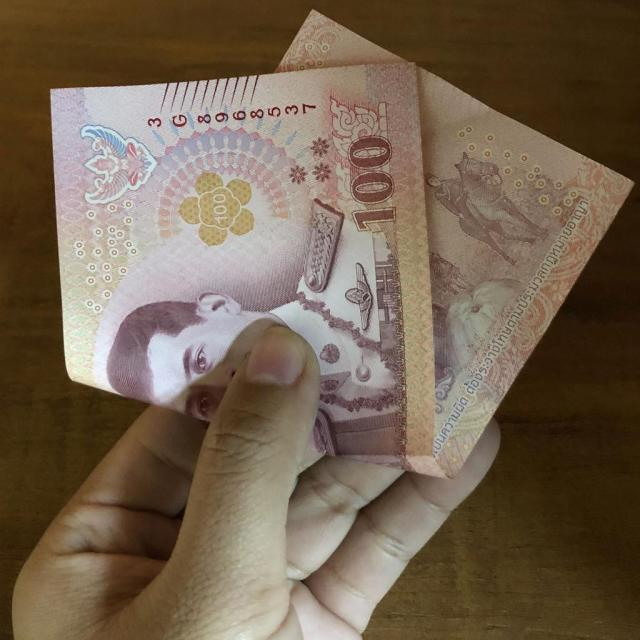THAI100: (51, 12, 631, 479)
